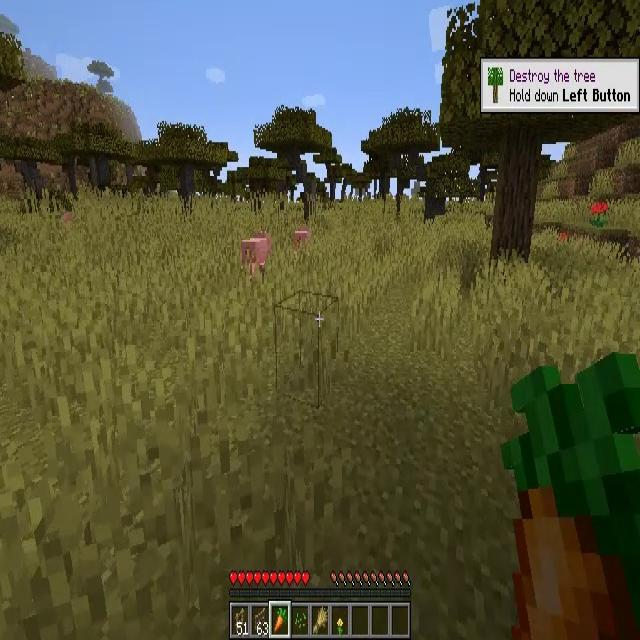pig: (243, 234, 270, 270), (295, 231, 310, 251)
